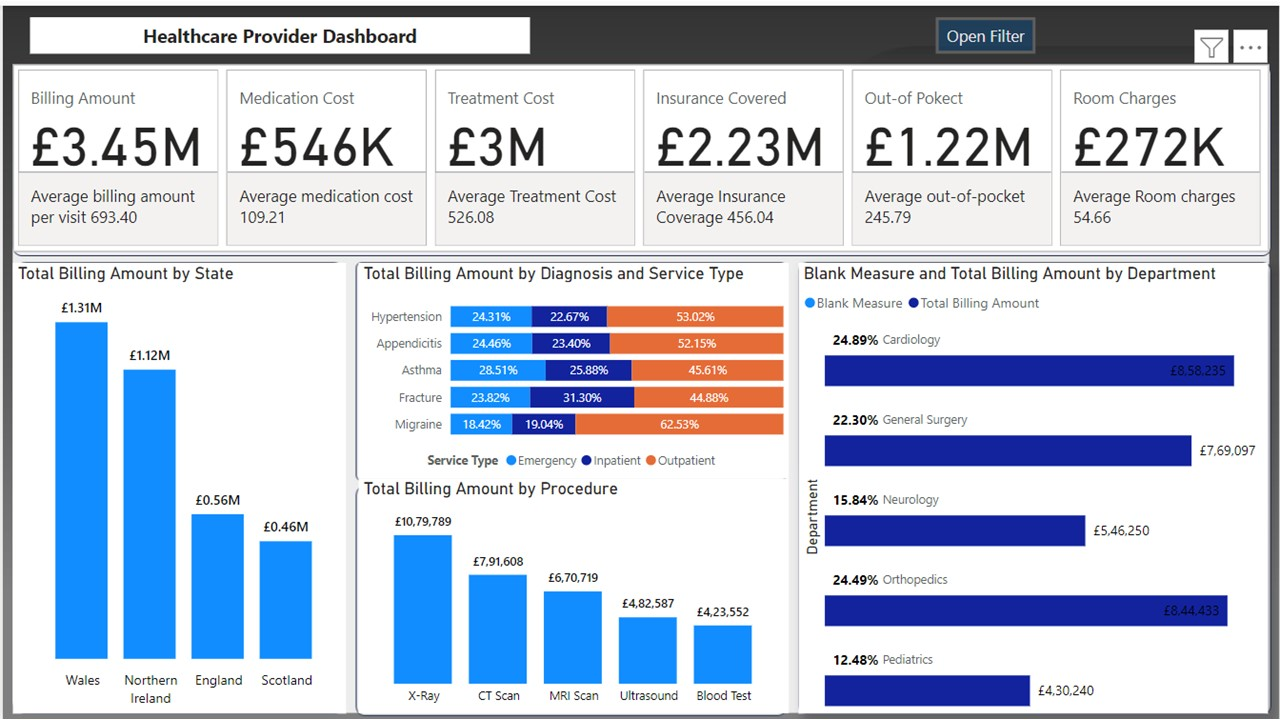

What the dashboard file says about the page in this screenshot:
{"tool":"powerbi","page":{"name":"Page 1","canvas":[1280,720],"ordinal":0},"visuals":[{"type":"cardVisual","fields":{"Data":["DAX CALCULATION.Total Billing Amount","DAX CALCULATION.Total Medication Cost","DAX CALCULATION.Total Treatment Cost","DAX CALCULATION.Total Insurance Covers","DAX CALCULATION.Out-of Pokect","DAX CALCULATION.Total Rooms Charges"]},"box":[9.5,58.9,1259.8,187.7],"z":0},{"type":"actionButton","title":"Open","box":[935.3,11.1,100.2,36.6],"z":1000,"group":"g1"},{"type":"clusteredColumnChart","fields":{"Category":["cities.State"],"Y":["DAX CALCULATION.Total Billing Amount"]},"box":[9.5,257.7,334,451.7],"z":1000},{"type":"clusteredColumnChart","fields":{"Category":["procedures.Procedure"],"Y":["DAX CALCULATION.Total Billing Amount"]},"box":[356.3,474,431.1,235.4],"z":2000},{"type":"hundredPercentStackedBarChart","fields":{"Y":["DAX CALCULATION.Total Billing Amount"],"Category":["diagnoses.Diagnosis"],"Series":["visits.Service Type"]},"box":[356.3,257.7,431.1,216.3],"z":3000},{"type":"clusteredBarChart","fields":{"Category":["departments.Department"],"Y":["DAX CALCULATION.Blank Measure","DAX CALCULATION.Total Billing Amount"]},"box":[798.5,257.7,470.8,451.7],"z":4000},{"type":"textbox","box":[27,11.1,501,36.6],"z":5000},{"type":"group","id":"g1","title":"Slicer button","box":[933.7,11.1,101.8,36.6],"z":7000}]}

Visuals, with their boxes in screenshot pixels (x1, y1, x2, y2), scaled from the page's 1280x720 canvas onto the 1280x720 screenshot:
cardVisual - DAX CALCULATION.Total Billing Amount x DAX CALCULATION.Total Medication Cost: x1=10, y1=59, x2=1269, y2=247
"Open" actionButton: x1=935, y1=11, x2=1036, y2=48
clusteredColumnChart - cities.State x DAX CALCULATION.Total Billing Amount: x1=10, y1=258, x2=344, y2=709
clusteredColumnChart - procedures.Procedure x DAX CALCULATION.Total Billing Amount: x1=356, y1=474, x2=787, y2=709
hundredPercentStackedBarChart - DAX CALCULATION.Total Billing Amount x diagnoses.Diagnosis: x1=356, y1=258, x2=787, y2=474
clusteredBarChart - departments.Department x DAX CALCULATION.Blank Measure: x1=798, y1=258, x2=1269, y2=709
textbox: x1=27, y1=11, x2=528, y2=48
"Slicer button" group: x1=934, y1=11, x2=1036, y2=48
